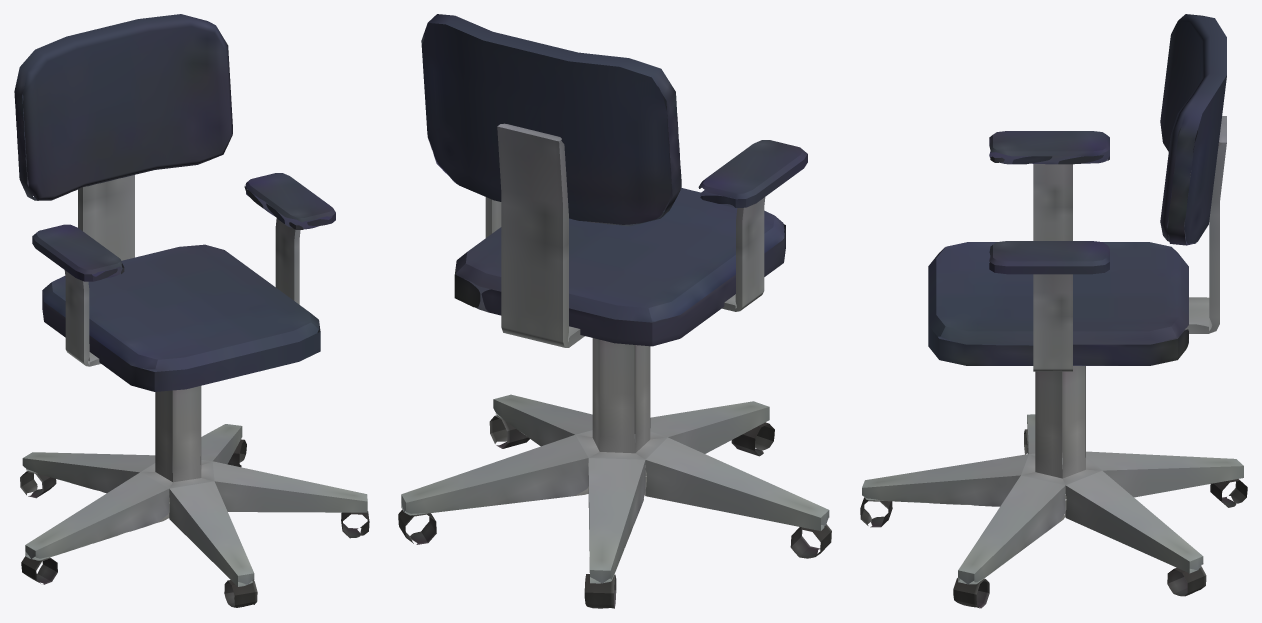
File: office-chair--2.gltf
The picture shows the model from 3 angles, left to right: view 1: azimuth 30°, elevation 25°; view 2: azimuth 150°, elevation 25°; view 3: azimuth 270°, elevation 25°; orthographic projection. The views are drawn at different scales.
Visible parts, largest first — view 1: Desk_chair; view 2: Desk_chair; view 3: Desk_chair.
Boxes of the visible parts, <box> form: Desk_chair: <box>14,14,369,607</box>; Desk_chair: <box>398,14,831,608</box>; Desk_chair: <box>860,14,1247,608</box>.
Bounding box in the file's own units: 0.7436 × 1.03 × 0.7507.
Materials: 1 (1 with a texture image).
